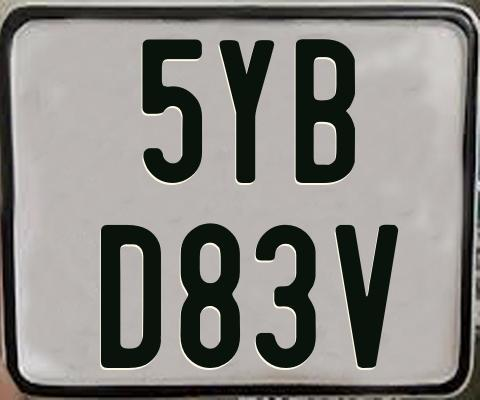3: (256, 224, 320, 370)
5: (142, 38, 208, 188)
8: (179, 222, 242, 372)
B: (293, 37, 357, 185)
D: (100, 225, 162, 374)
V: (334, 225, 400, 374)
Y: (217, 38, 271, 185)
